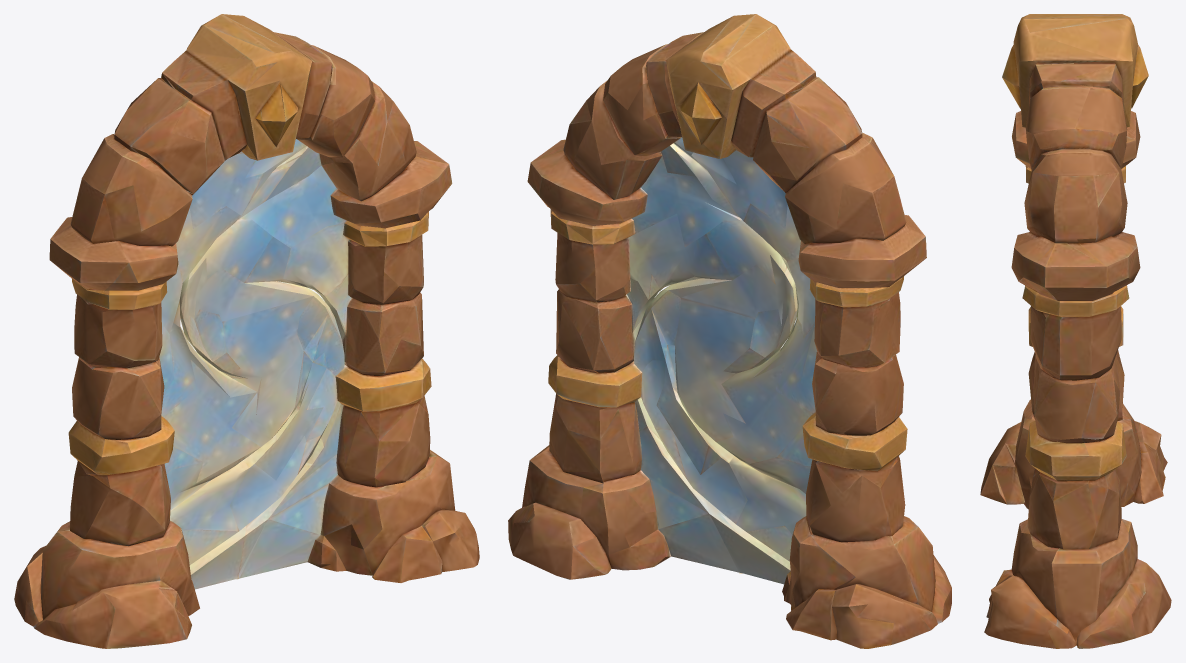
The model's file is portal.glb.
The picture shows the model from 3 angles, left to right: view 1: azimuth 30°, elevation 25°; view 2: azimuth 150°, elevation 25°; view 3: azimuth 270°, elevation 25°; orthographic projection. The views are drawn at different scales.
Size of the model in its own units: 1.57 by 1.9 by 0.623.
Materials: 1 (1 with a texture image).
